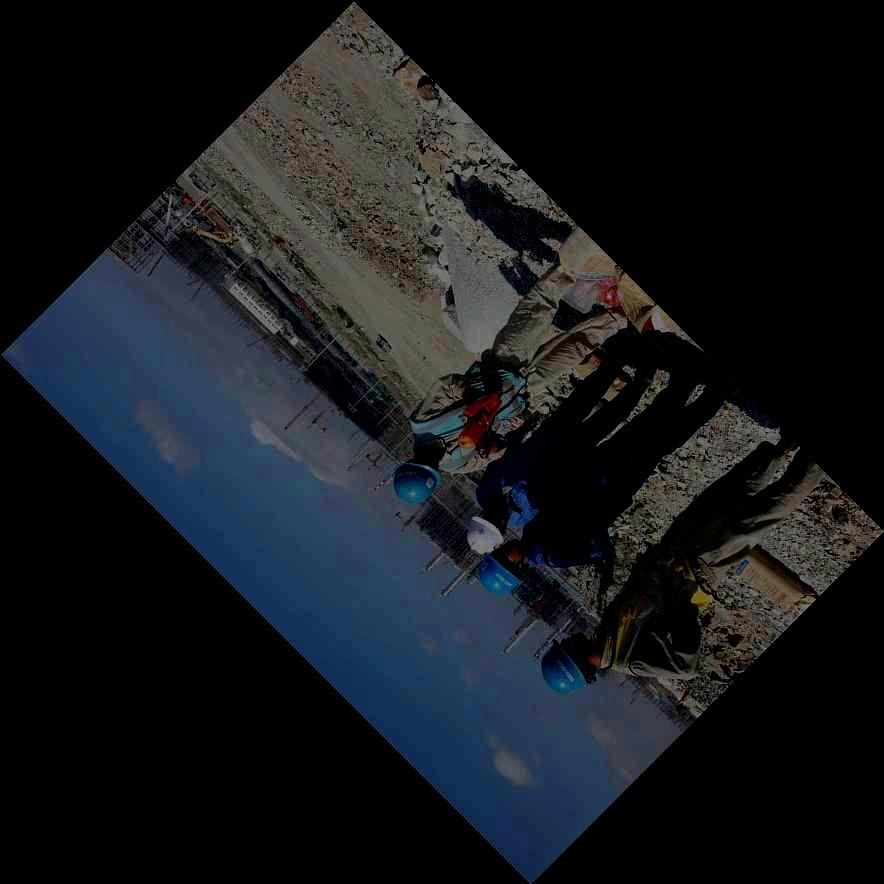helmet: (540, 631, 602, 697), (391, 451, 442, 508), (477, 541, 527, 598), (467, 508, 509, 555)
